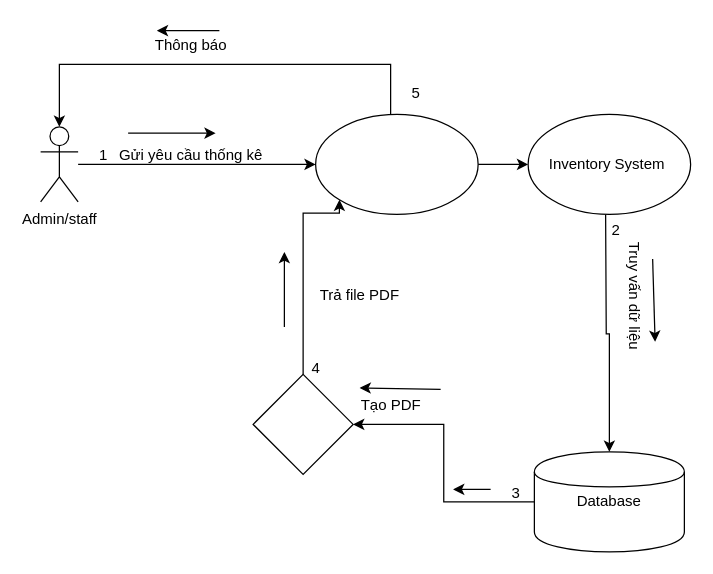
The diagram is 713 pixels wide and 574 high, and some of its shapes have lost their labels. The box of each missing label's shape, as (x1, y1, x2, y2) in pixels:
Report generator: (252, 373, 353, 474)
System: (314, 113, 478, 214)
